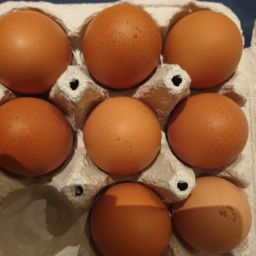Eggs: (167, 85, 255, 180), (161, 171, 256, 256), (80, 3, 170, 90), (91, 98, 180, 183), (1, 9, 76, 99), (172, 7, 248, 95), (3, 97, 74, 183), (92, 186, 172, 256)
